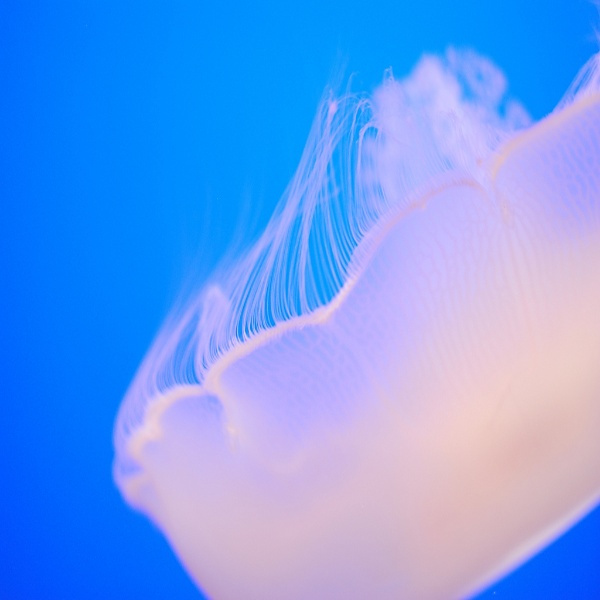Jellyfish: (108, 6, 599, 598)
